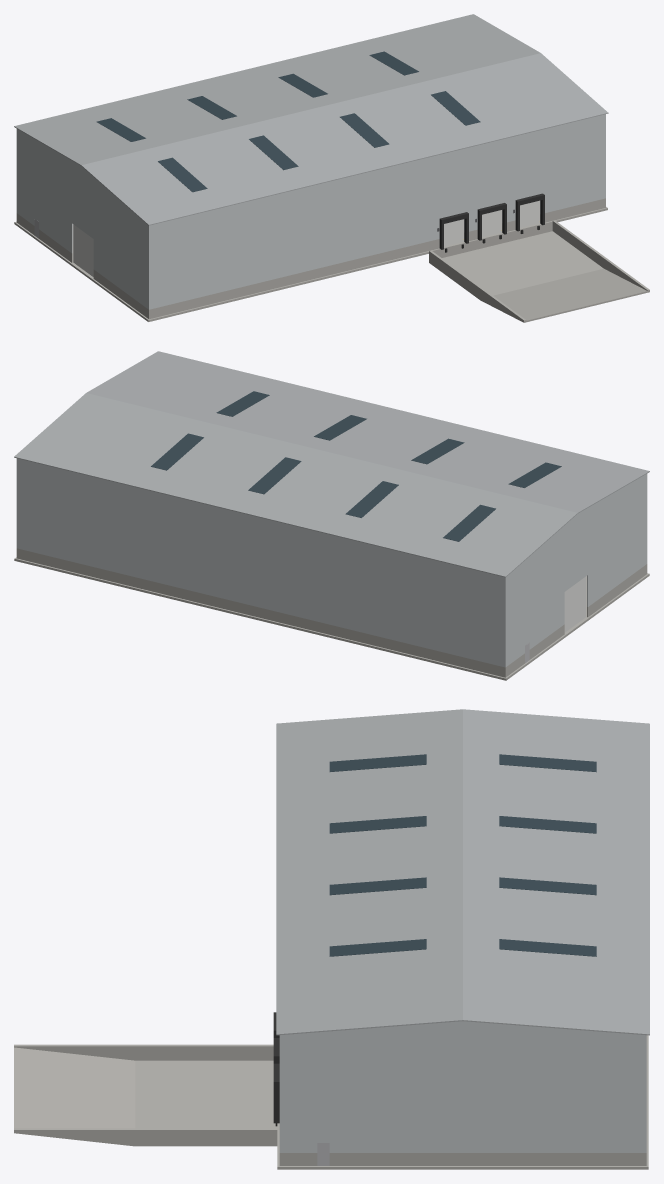
File: SM_Warehouse.fbx
The picture shows the model from 3 angles, top to bottom: view 1: azimuth 30°, elevation 25°; view 2: azimuth 150°, elevation 25°; view 3: azimuth 270°, elevation 25°; orthographic projection. The views are drawn at different scales.
Parts seen in each view (by area): view 1: WH_Roof, WH_Cladding_South, WH_DockApron, WH_Cladding_West, WH_Slab, WH_DockEquipment, WH_Door_DriveIn, WH_Door_Dock1, WH_Door_Dock2, WH_Door_Dock3; view 2: WH_Roof, WH_Cladding_North, WH_Cladding_West, WH_Slab, WH_Door_DriveIn; view 3: WH_Roof, WH_Cladding_East, WH_DockApron, WH_Slab, WH_DockEquipment.
Part boxes in pixels (x1,y1,x2,y2): WH_Roof: (14, 14, 608, 225); WH_Cladding_South: (150, 114, 604, 318); WH_DockApron: (429, 220, 649, 322); WH_Cladding_West: (16, 129, 149, 319); WH_Slab: (14, 201, 607, 321); WH_DockEquipment: (437, 193, 544, 252); WH_Door_DriveIn: (73, 224, 93, 276); WH_Door_Dock1: (444, 219, 463, 246); WH_Door_Dock2: (482, 210, 501, 237); WH_Door_Dock3: (520, 200, 539, 227); WH_Roof: (14, 351, 649, 577); WH_Cladding_North: (17, 458, 504, 677); WH_Cladding_West: (504, 474, 647, 677); WH_Slab: (14, 557, 649, 680); WH_Door_DriveIn: (564, 576, 586, 632); WH_Roof: (276, 709, 649, 1035); WH_Cladding_East: (279, 1021, 646, 1165); WH_DockApron: (14, 1044, 279, 1146); WH_Slab: (277, 1035, 648, 1169); WH_DockEquipment: (273, 1012, 279, 1126).
Bounding box in the file's own units: 6060 × 1475 × 5240.
